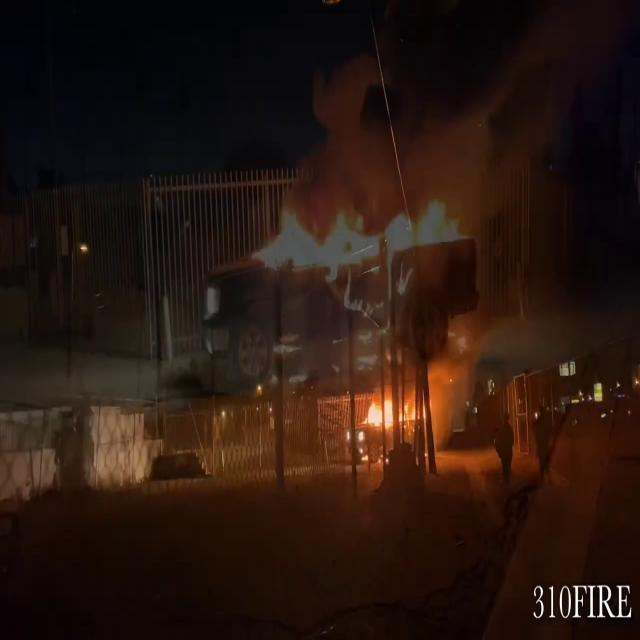Fire: (257, 182, 465, 267), (358, 378, 418, 444)
